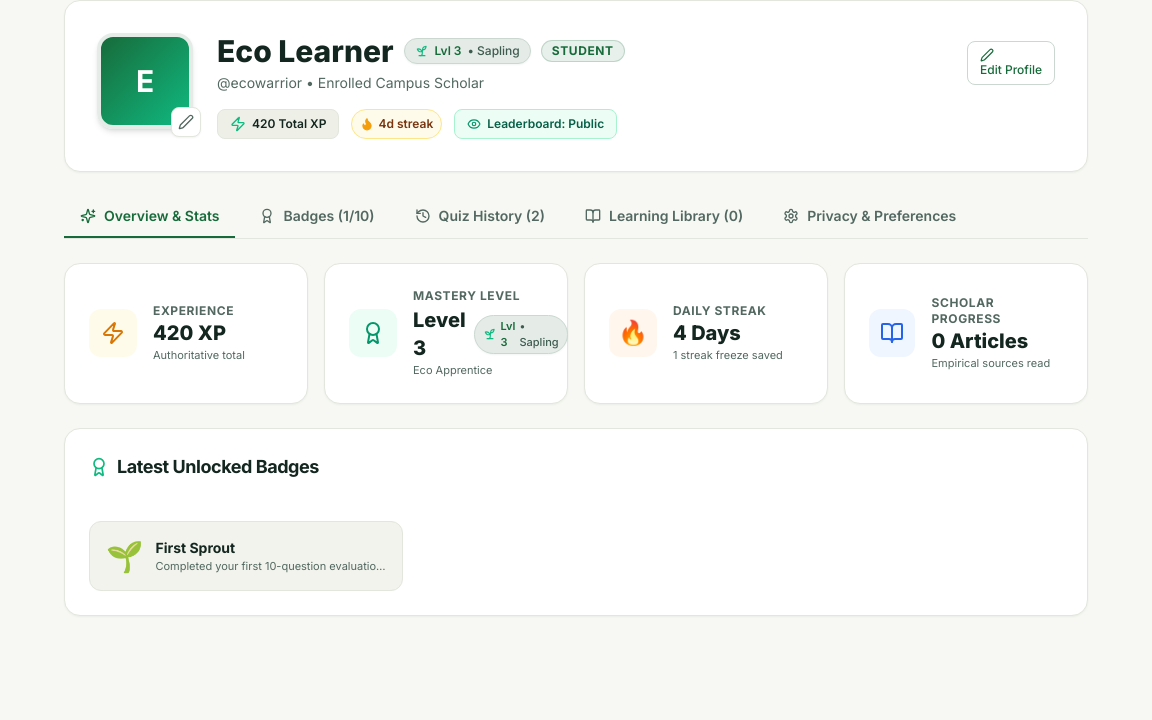
Scenario: Stage 10: Content Library, Student Profiles & Administration › Student Profiles & Field Ownership › renders unauthenticated state when user is signed out
The image size is (1152, 720).
// Switch to Privacy & Preferences tab
Click the button "Privacy & Preferences". click: (870, 217)
box: [767,196,972,238]
(page scrolled)
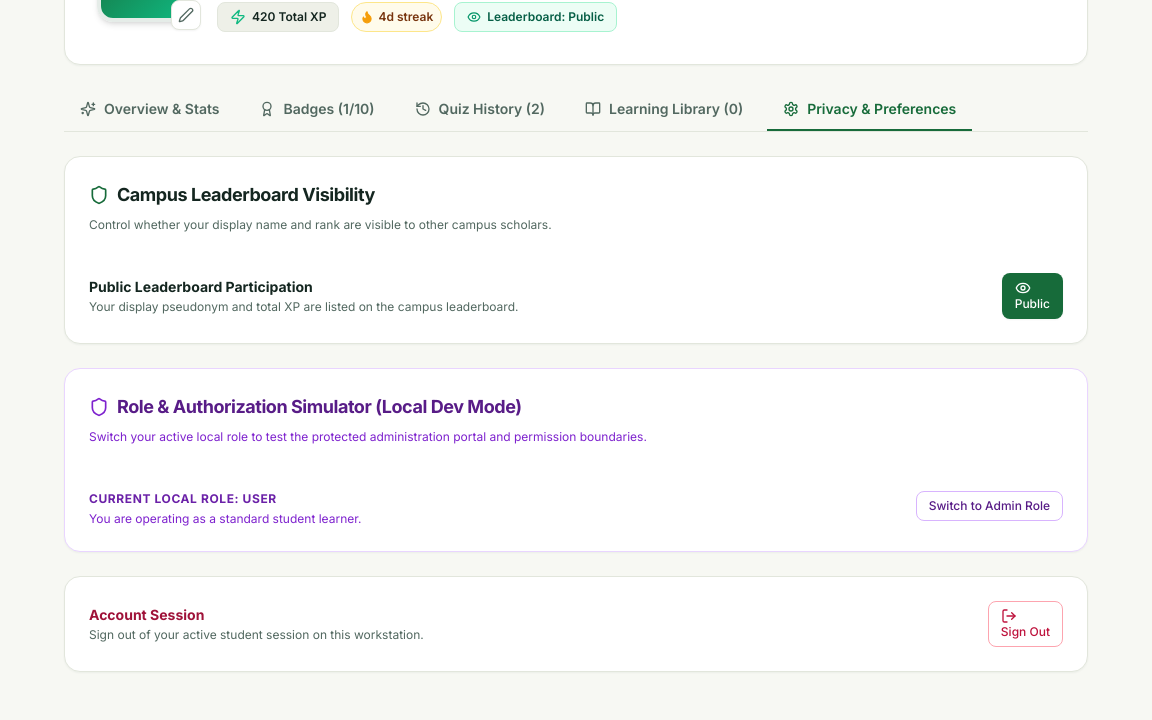
// Click Sign Out button
Click the button "Sign Out". click: (1025, 624)
box: [988,601,1063,647]
(page scrolled)
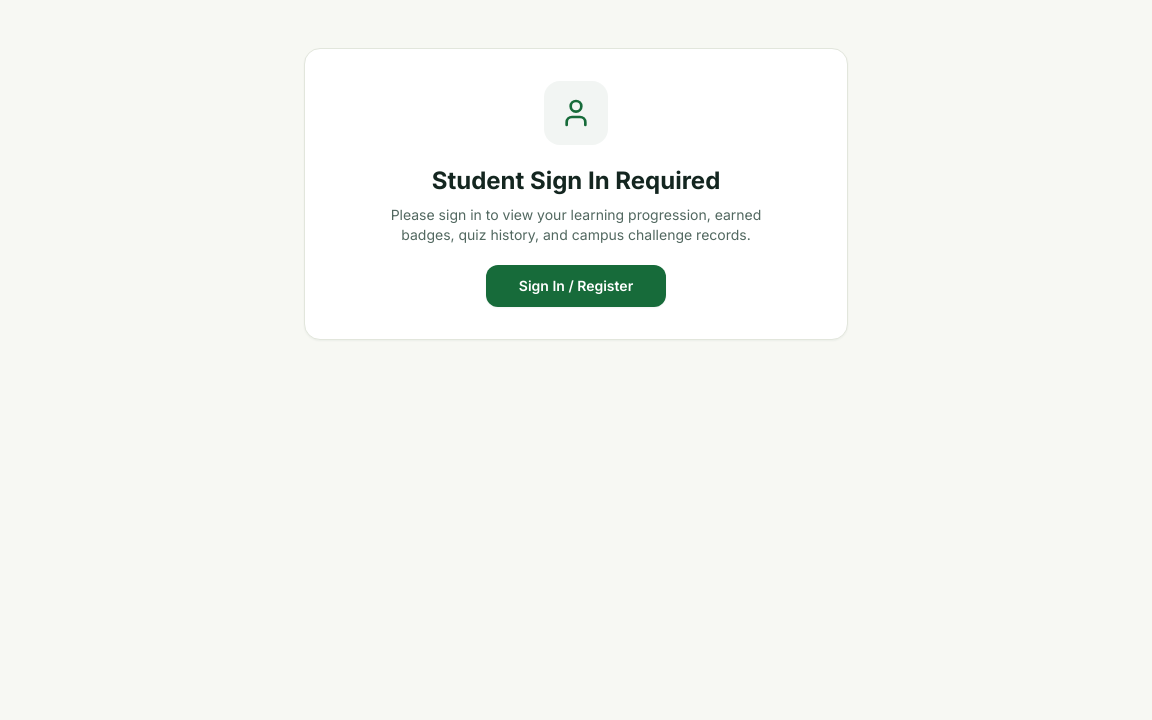
Now the heading "Student Sign In Required" is shown, box [432,166,720,195]
Now the button "Sign In / Register" is shown, box [486,265,666,307]
